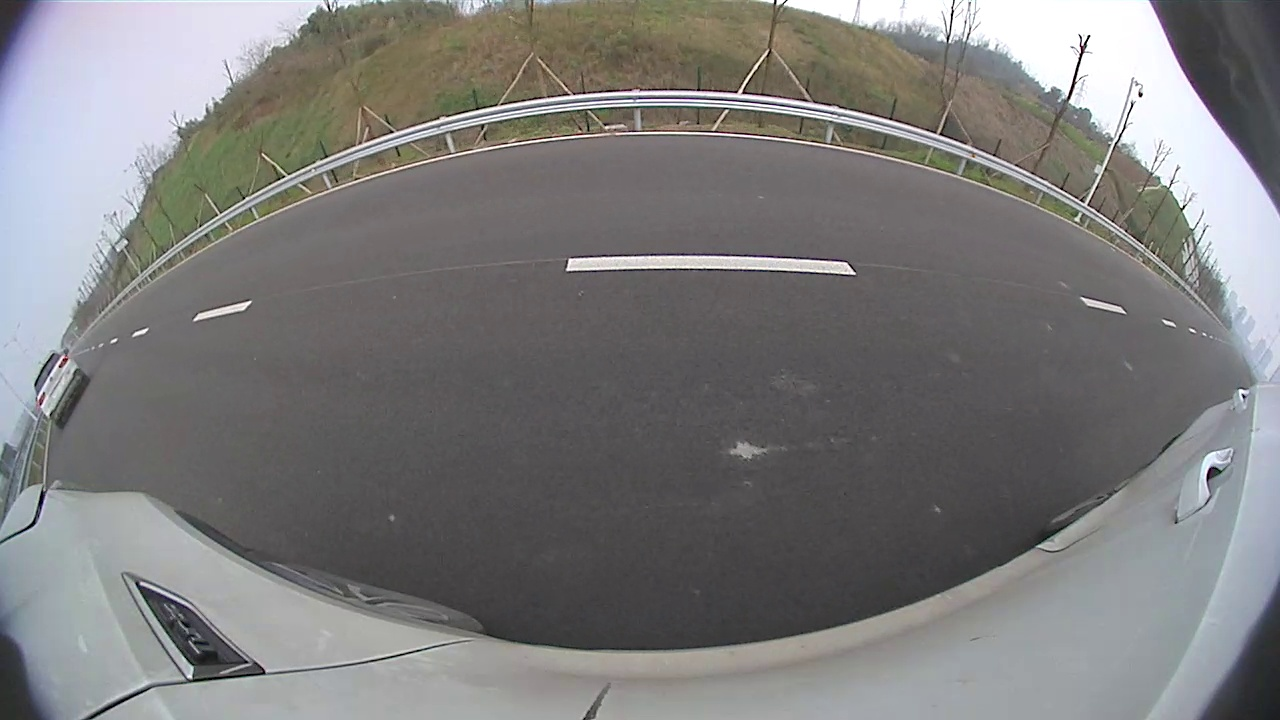car: (660, 129, 762, 212)
